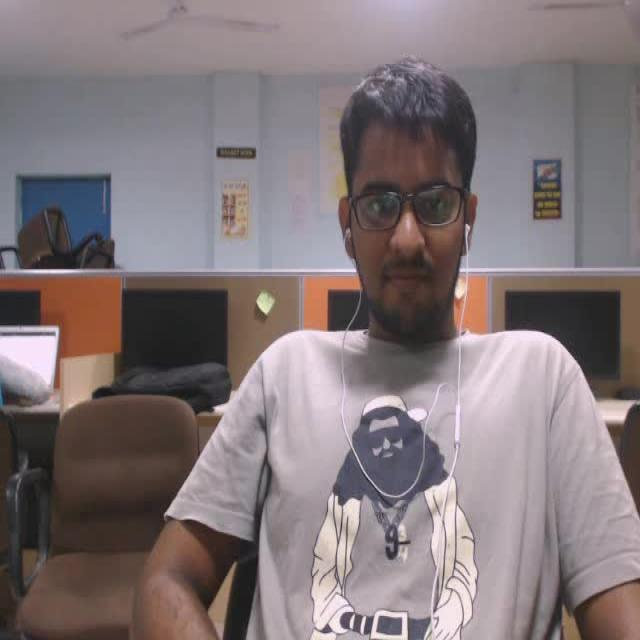Engaged: (280, 19, 507, 375)
